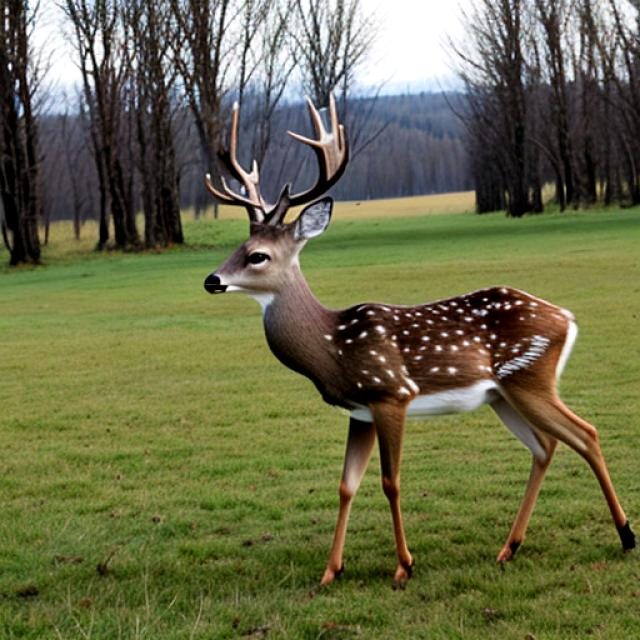deer: (177, 80, 428, 385)
